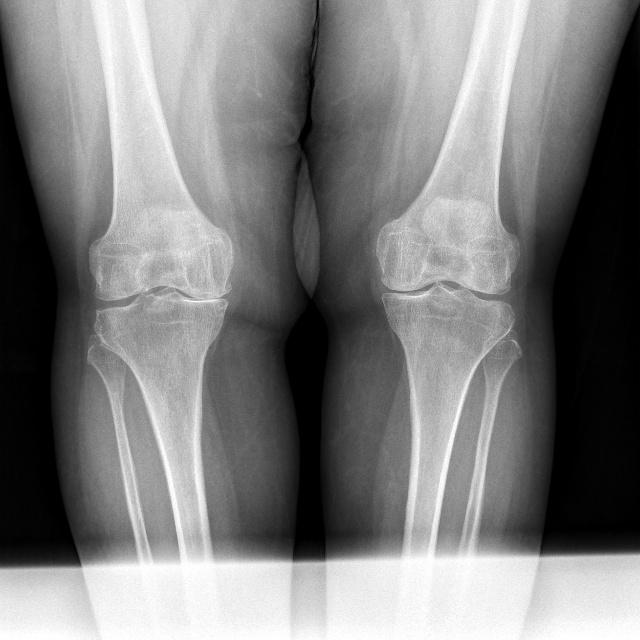Knee: (84, 243, 233, 351), (371, 237, 521, 343)
